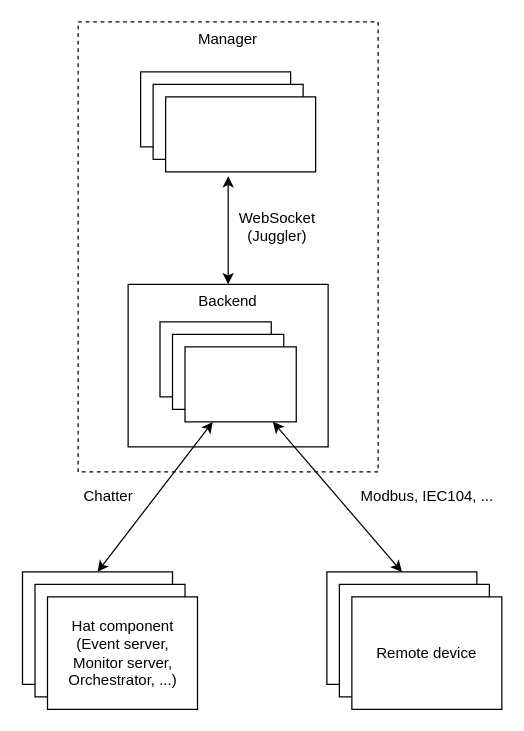
Some shapes in this 524 by 731 pixel diagram are drawn without their labels. Each missing label, with the centre of its shape:
"Frontend (web browser)" belongs at [240,134].
"Manager device" belongs at [240,384].
